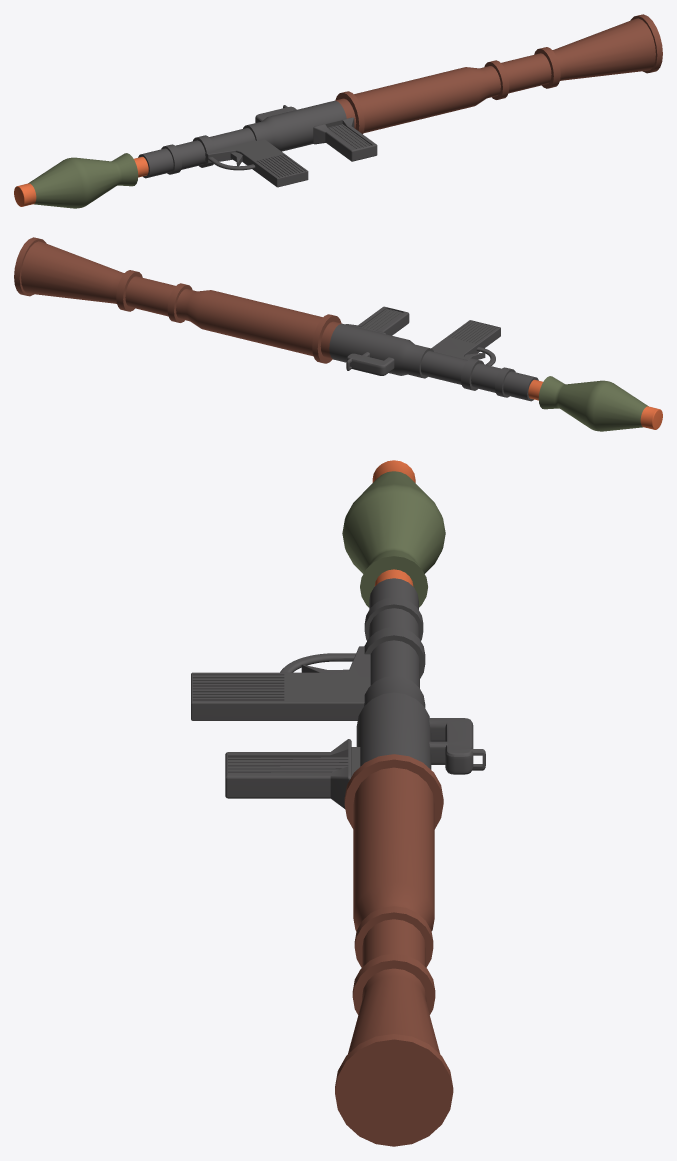
File: Bazooka.fbx
The picture shows the model from 3 angles, top to bottom: view 1: azimuth 30°, elevation 25°; view 2: azimuth 150°, elevation 25°; view 3: azimuth 270°, elevation 25°; orthographic projection. The views are drawn at different scales.
Visible parts, largest first — view 1: pCylinder3; view 2: pCylinder3; view 3: pCylinder3.
Boxes of the visible parts, <box> form: pCylinder3: <box>14,14,662,208</box>; pCylinder3: <box>14,237,662,431</box>; pCylinder3: <box>191,460,485,1146</box>.
Size of the model in its own units: 4.34 by 0.3533 by 0.8803.
